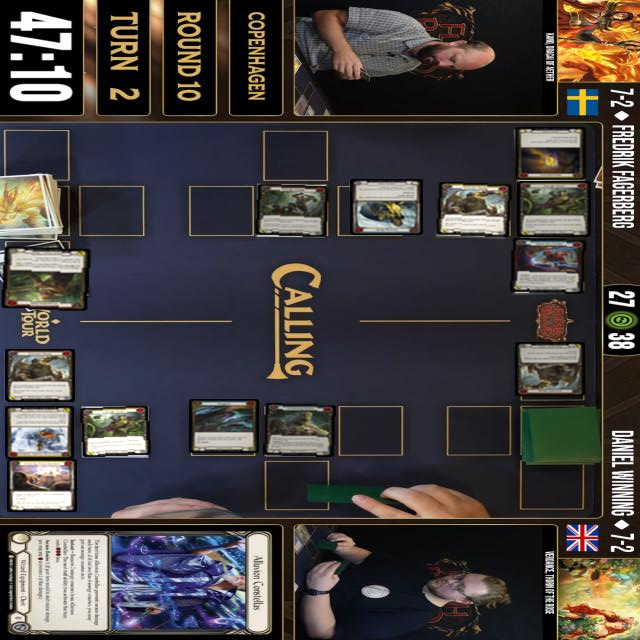Awakening_Bellow_WTR034: (262, 404, 335, 458)
Driving_Blade_WTR146: (350, 180, 422, 236)
Flock_of_the_Feather_Walkers_WTR183: (4, 406, 73, 459)
Ironsong_Determination_WTR122: (7, 460, 77, 512)
Open_the_Center_WTR097: (510, 239, 586, 295)
Remembrance_WTR163: (514, 127, 586, 182)
Savage_Feast_WTR015: (517, 181, 591, 238), (79, 405, 152, 459)
Savage_Swing_WTR020: (254, 183, 330, 239)
Sloggism_WTR223: (189, 399, 259, 454)
Wounded_Bull_WTR200: (0, 245, 92, 312)
Wrecker_Romp_WTR029: (515, 343, 585, 397), (5, 350, 75, 402)
Wrecker_Romp_WTR030: (435, 182, 513, 239)
